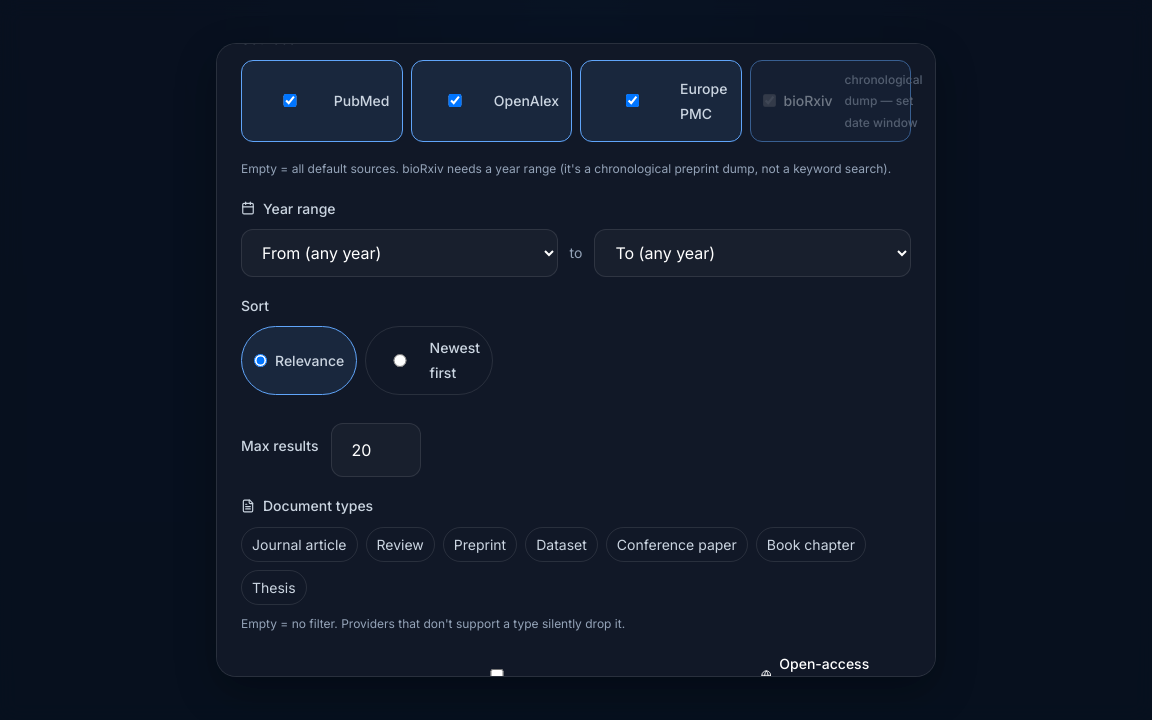
Test case: AdvancedSearchModal › reset › clears all filters back to defaults
(page scrolled)
What coordinates should you click on to do the following:
click the radio button labelled "Newest first"
I would click on:
 (400, 360)
Its box is [378,354,422,367].
(page scrolled)
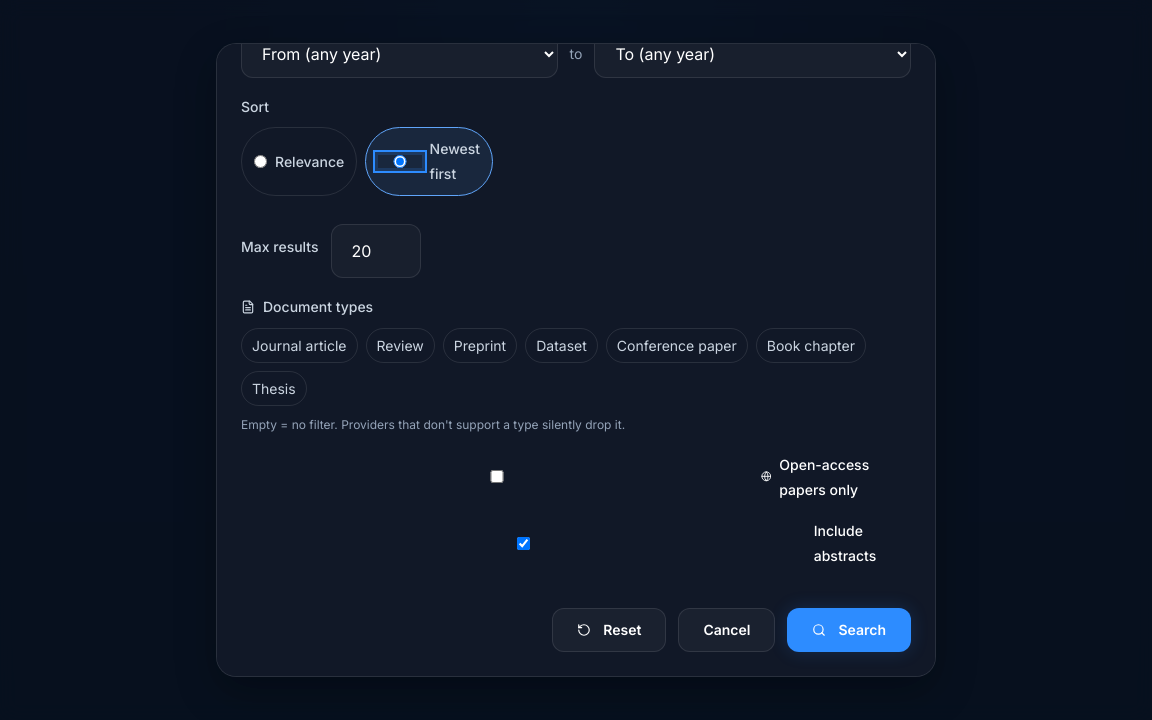
Check: the radio button labelled "Newest first" is checked, box [378,155,422,168]
What coordinates should you click on to do the following:
click the button "Reset"
I would click on:
 (609, 630)
Its box is [552,608,666,652].
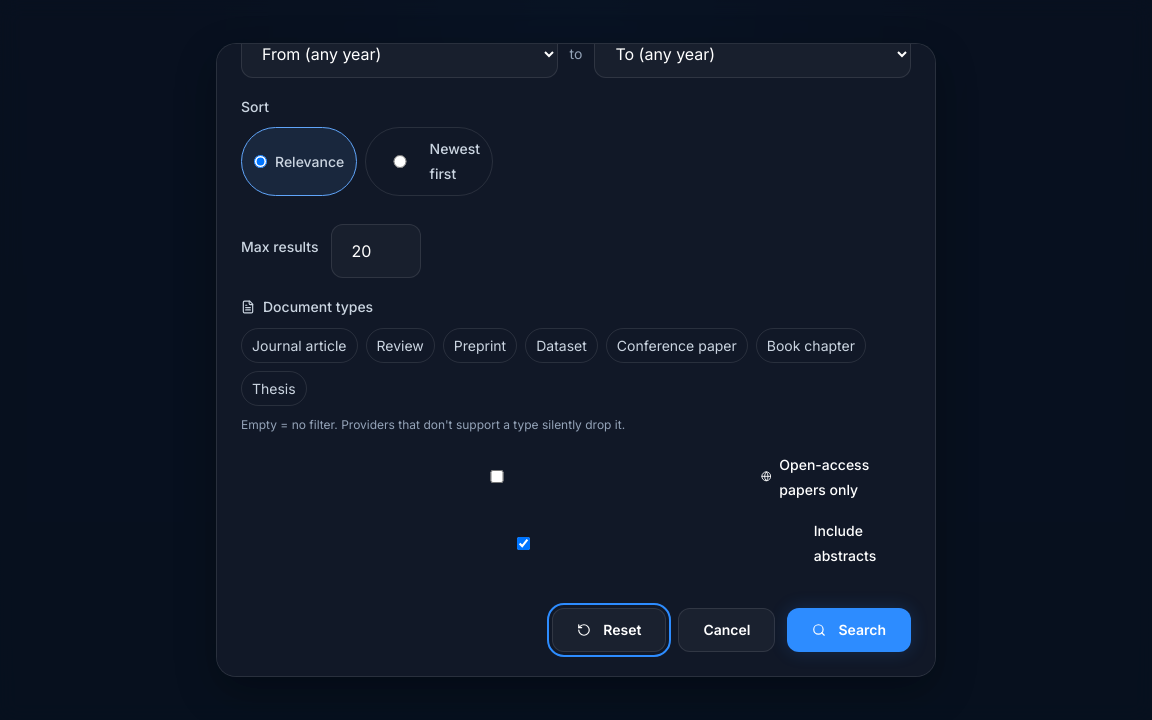
Check: the radio button labelled "Relevance" is checked, box [254,155,267,168]
